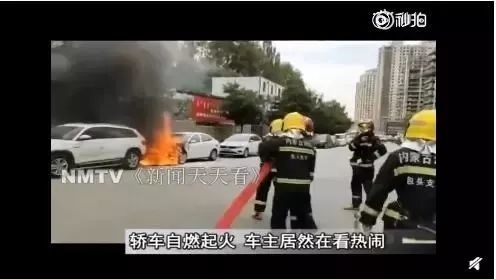fire: (138, 114, 185, 167)
